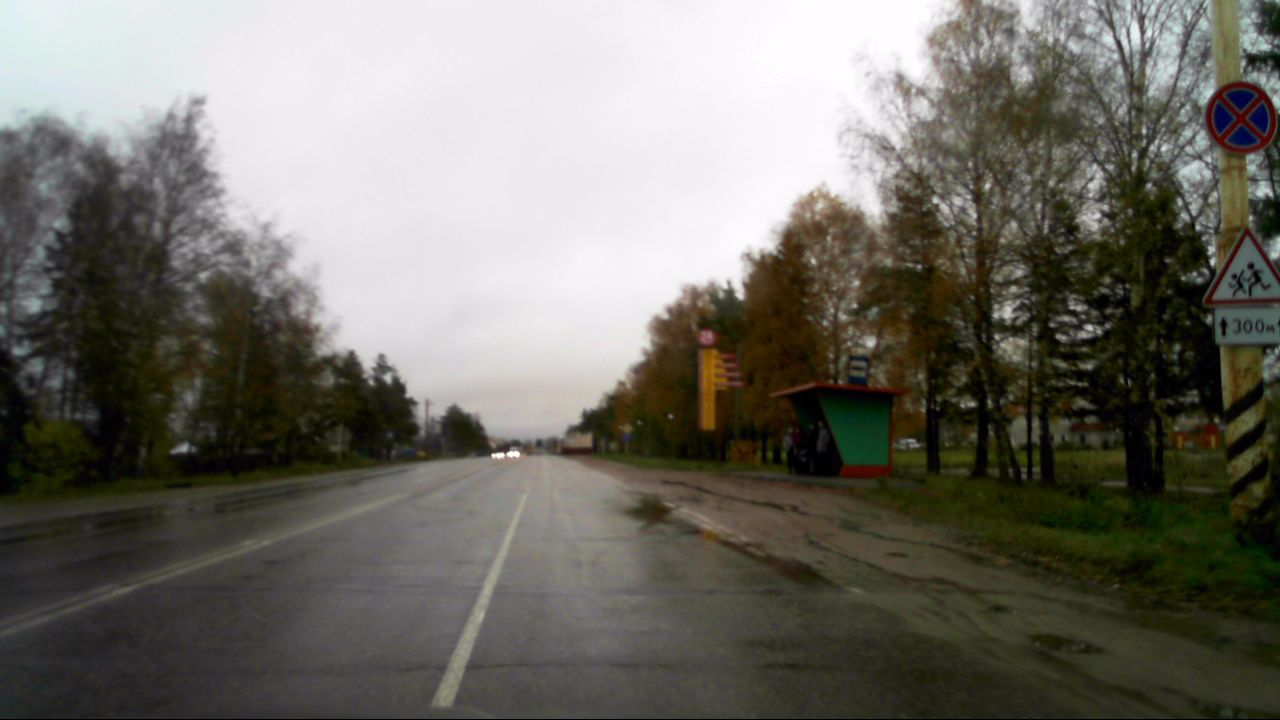No Parking: (1203, 80, 1279, 155)
